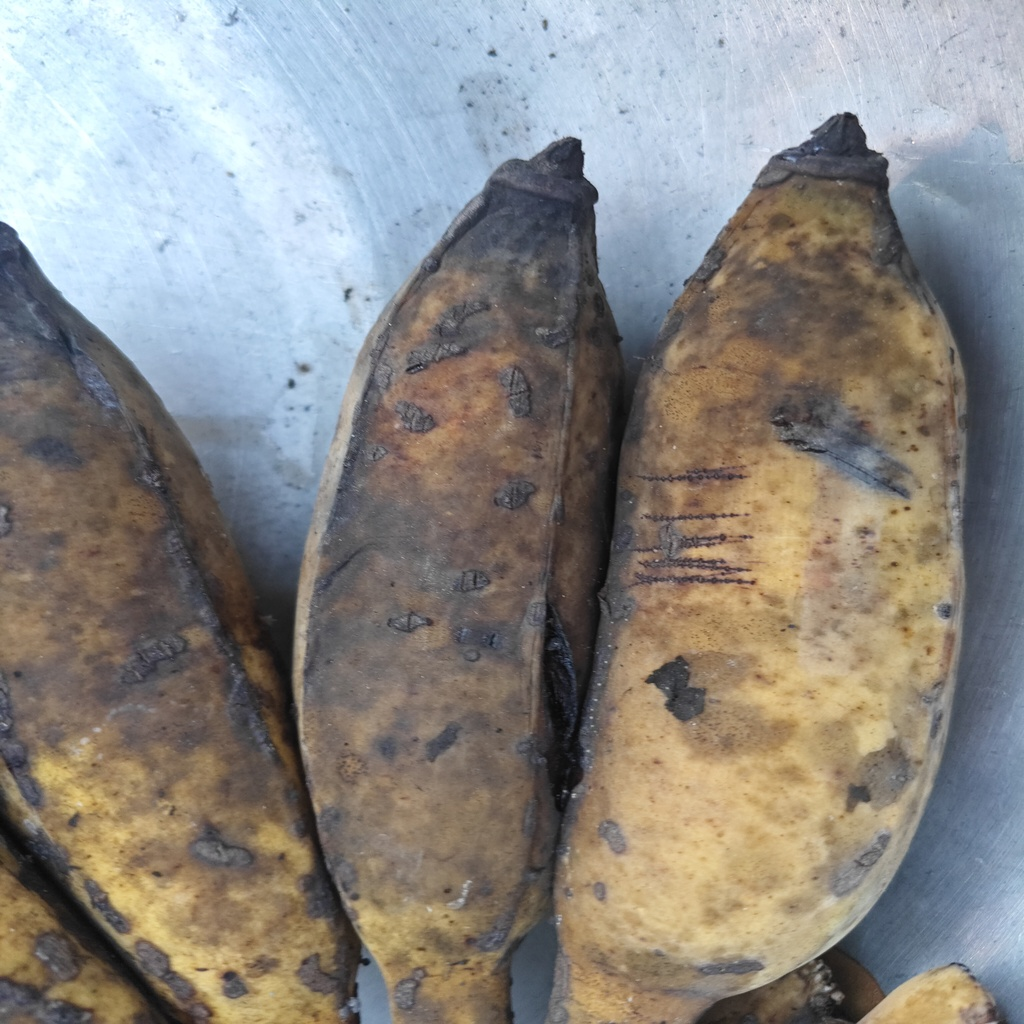unhealthy: (551, 144, 961, 974), (1, 219, 359, 996), (292, 143, 629, 963)
